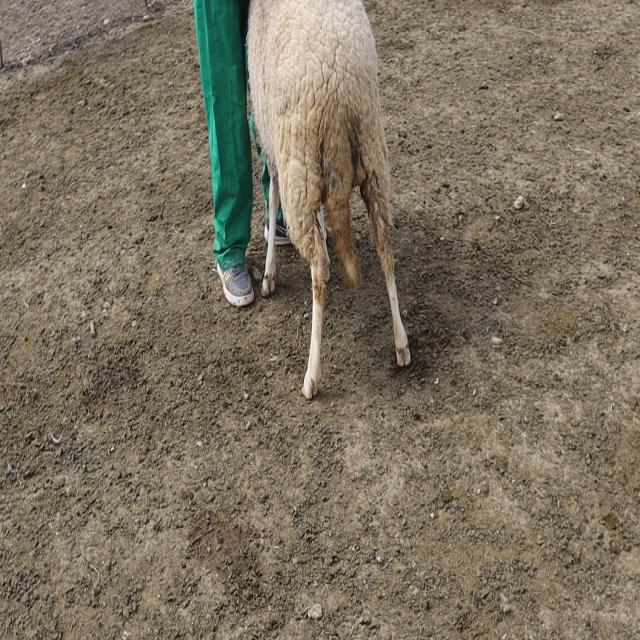Score_4: (247, 0, 410, 398)
